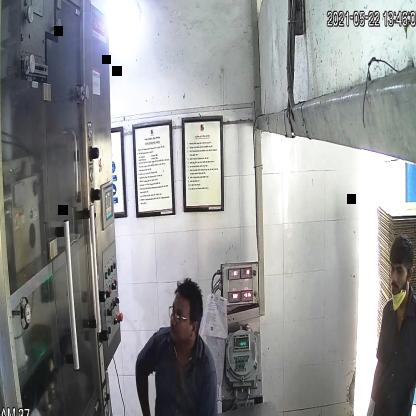goggles: (168, 306, 200, 326)
no_goggles: (388, 261, 412, 280)
